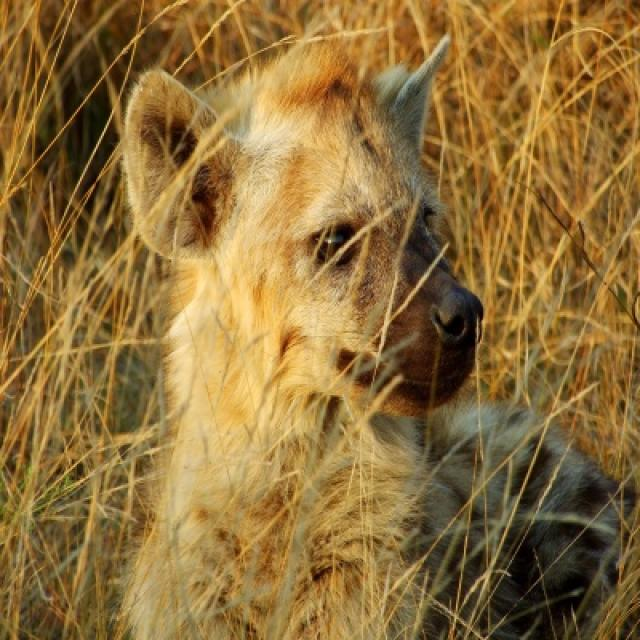hyena: (123, 40, 634, 638)
